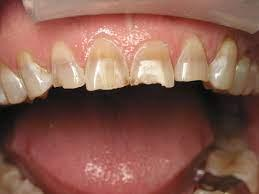Discoloration: (85, 41, 130, 88), (131, 42, 174, 88), (17, 52, 54, 99), (210, 42, 243, 92), (177, 38, 211, 84), (50, 46, 84, 88)
